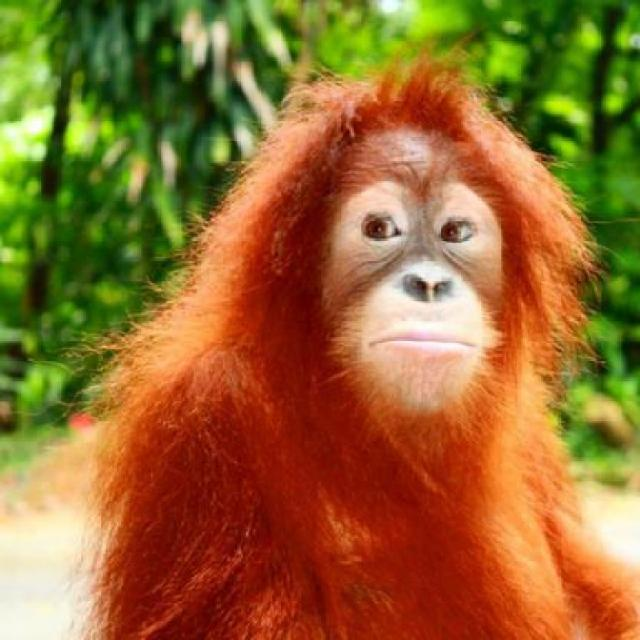Monkey: (41, 39, 638, 638)
